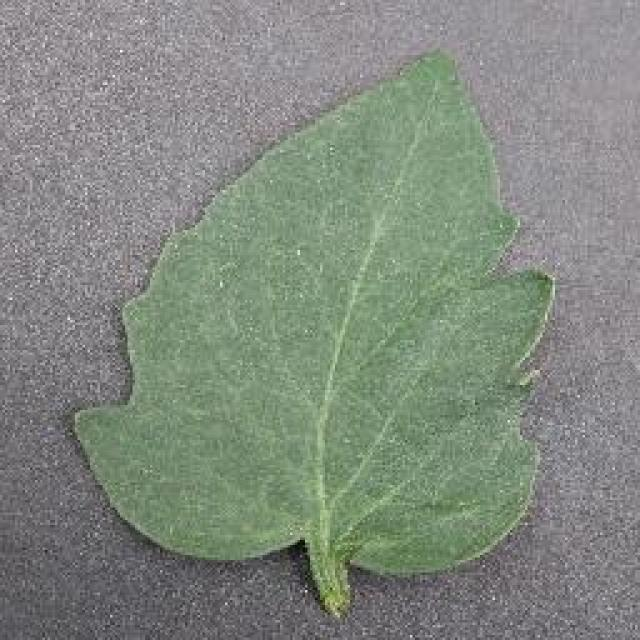healthy: (72, 44, 556, 606)
